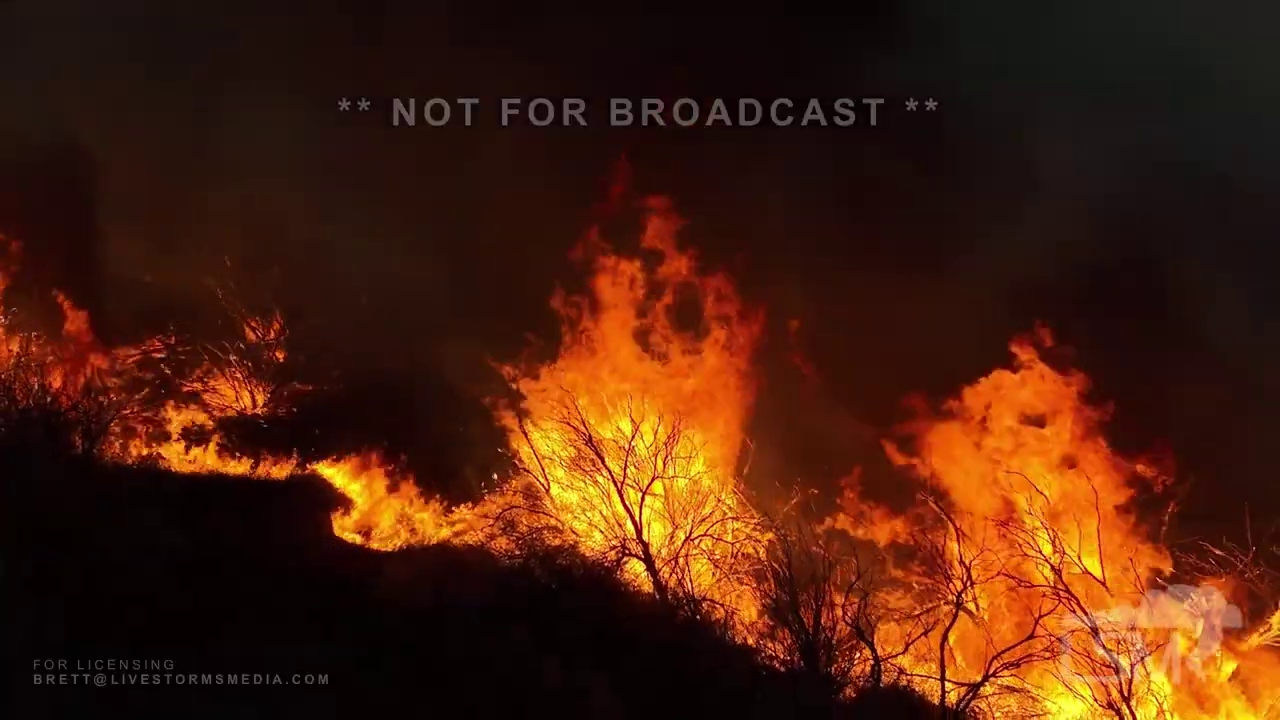forest_fire: (0, 198, 1279, 718), (0, 241, 19, 291)
